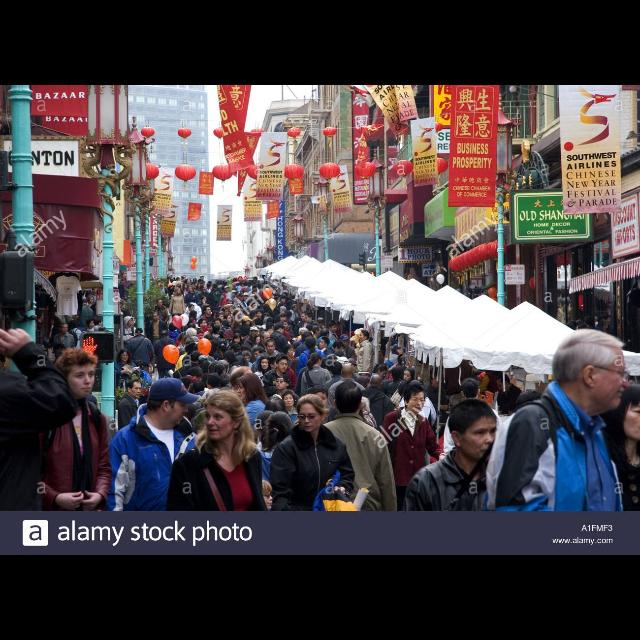head: (553, 329, 631, 415), (448, 399, 500, 463), (146, 379, 190, 431), (204, 391, 246, 443), (62, 351, 96, 399), (296, 394, 328, 434), (1, 311, 22, 364), (332, 382, 363, 414), (236, 373, 262, 401), (269, 412, 293, 442), (255, 411, 279, 439), (231, 368, 255, 396), (404, 384, 426, 414), (308, 386, 328, 414), (255, 481, 273, 512), (460, 378, 482, 400), (270, 295, 284, 329), (267, 397, 285, 419), (127, 380, 143, 398), (496, 374, 510, 394), (206, 374, 222, 390), (282, 392, 296, 410), (276, 355, 290, 373), (404, 368, 418, 384), (341, 364, 355, 380), (276, 376, 290, 392), (192, 380, 205, 396), (429, 373, 443, 387), (460, 357, 474, 371), (370, 376, 384, 390), (332, 340, 346, 354), (410, 381, 422, 395), (392, 367, 404, 381), (310, 354, 322, 368), (269, 357, 281, 371), (179, 378, 191, 392), (224, 352, 236, 364), (252, 348, 264, 360), (260, 332, 272, 344), (274, 323, 286, 335), (332, 362, 342, 376), (328, 354, 338, 368), (309, 354, 319, 368), (260, 357, 270, 371), (266, 340, 276, 354), (120, 349, 130, 363), (378, 366, 388, 378), (360, 330, 370, 342), (340, 335, 350, 347), (320, 337, 330, 349), (192, 354, 204, 364), (59, 322, 69, 333), (488, 361, 499, 371), (302, 332, 312, 343), (300, 328, 310, 339), (284, 347, 294, 358), (219, 347, 229, 358), (389, 339, 398, 351), (50, 316, 60, 326), (392, 345, 402, 355), (306, 338, 316, 348), (320, 329, 330, 339), (300, 312, 310, 322), (232, 345, 242, 355), (134, 328, 144, 338), (198, 319, 208, 329), (249, 328, 259, 338), (124, 318, 134, 328), (329, 322, 338, 332), (160, 332, 170, 341), (94, 318, 102, 328), (87, 320, 95, 330), (306, 314, 314, 324), (242, 354, 250, 364), (234, 334, 242, 344), (207, 323, 215, 333), (215, 319, 223, 329), (242, 317, 250, 327), (254, 336, 262, 346), (266, 322, 274, 332), (283, 320, 291, 330), (280, 313, 288, 323), (204, 306, 212, 316), (152, 312, 160, 322), (37, 312, 44, 322), (399, 356, 406, 366), (170, 322, 177, 332), (80, 298, 88, 306), (185, 346, 193, 354), (136, 361, 144, 369), (222, 308, 230, 316), (227, 306, 235, 314), (156, 300, 164, 308), (200, 284, 208, 292), (318, 318, 324, 328), (409, 267, 416, 275), (225, 316, 232, 324), (243, 293, 250, 301), (89, 296, 95, 304), (408, 352, 416, 358), (264, 305, 270, 313), (188, 306, 196, 312), (201, 296, 207, 304), (237, 294, 243, 302), (280, 296, 286, 304), (71, 322, 77, 328), (391, 335, 397, 341), (292, 306, 298, 312), (280, 308, 286, 314), (257, 312, 263, 318), (191, 312, 197, 318), (191, 300, 197, 306), (227, 300, 233, 306), (259, 279, 265, 285), (252, 286, 258, 292), (224, 287, 230, 293), (213, 286, 219, 292), (189, 287, 195, 293), (175, 288, 181, 294), (177, 277, 183, 283), (94, 288, 98, 294), (122, 274, 128, 278), (184, 284, 188, 290), (292, 295, 296, 299), (236, 292, 240, 296), (244, 282, 248, 286), (236, 282, 240, 286), (198, 284, 202, 288), (201, 276, 205, 280), (188, 278, 192, 282), (248, 282, 252, 284), (240, 276, 242, 278), (234, 280, 236, 282)
person: (440, 376, 504, 538), (218, 363, 268, 517), (226, 372, 274, 532), (242, 408, 290, 546), (323, 363, 369, 477), (298, 384, 344, 486), (394, 379, 440, 477), (256, 393, 294, 509), (357, 374, 398, 464), (262, 354, 300, 448), (115, 378, 148, 484), (443, 357, 485, 439), (488, 371, 528, 457), (298, 352, 334, 446), (418, 370, 452, 462), (268, 373, 302, 465), (110, 347, 156, 413), (196, 372, 228, 466), (320, 360, 352, 448), (379, 365, 413, 447), (293, 352, 325, 432), (250, 339, 284, 411), (296, 335, 328, 411), (275, 388, 305, 469), (168, 375, 196, 461), (389, 366, 421, 439), (476, 362, 510, 430), (166, 350, 208, 404), (150, 328, 180, 402), (248, 331, 278, 404), (124, 326, 156, 392), (382, 352, 414, 416), (251, 355, 281, 421), (292, 330, 320, 400), (322, 339, 348, 411), (260, 356, 288, 422), (266, 321, 296, 379), (144, 311, 172, 371), (116, 314, 144, 374), (222, 350, 248, 414), (354, 329, 374, 411), (319, 354, 343, 420), (51, 322, 77, 380), (332, 333, 358, 391), (188, 380, 212, 440), (174, 342, 198, 402), (248, 346, 270, 408), (382, 343, 408, 395), (228, 342, 250, 403), (128, 359, 154, 409), (366, 362, 390, 416), (42, 315, 64, 371), (316, 336, 338, 392), (278, 343, 298, 403), (196, 304, 218, 358), (315, 328, 337, 380), (74, 298, 96, 348), (88, 317, 109, 369), (381, 337, 402, 389), (225, 332, 247, 380), (404, 350, 422, 408), (294, 326, 314, 378), (242, 326, 262, 378), (214, 342, 234, 393), (293, 311, 315, 357), (180, 309, 198, 365), (303, 312, 323, 362), (238, 350, 258, 400), (248, 332, 268, 382), (210, 318, 232, 362), (151, 299, 171, 347), (324, 320, 342, 372), (194, 318, 212, 370), (81, 318, 101, 364), (383, 332, 403, 376), (235, 315, 255, 359), (183, 298, 203, 342), (312, 316, 330, 364), (168, 286, 186, 334), (273, 312, 295, 351), (216, 298, 236, 340), (167, 320, 185, 366), (195, 284, 213, 328), (180, 304, 198, 346), (231, 292, 249, 334), (201, 321, 217, 365), (261, 322, 279, 361), (218, 284, 236, 322), (34, 311, 48, 359), (261, 304, 277, 346), (220, 314, 236, 356), (66, 319, 84, 356), (84, 294, 98, 340), (280, 320, 296, 360), (239, 292, 255, 332), (196, 294, 212, 332), (218, 306, 232, 348), (222, 303, 236, 345), (274, 306, 290, 342), (274, 294, 290, 330), (288, 303, 304, 337), (254, 309, 268, 347), (286, 292, 300, 330), (184, 285, 198, 323), (86, 287, 102, 319), (270, 295, 284, 329), (209, 283, 223, 317), (406, 265, 420, 297), (247, 284, 261, 312), (231, 290, 243, 322), (257, 278, 269, 306), (240, 281, 252, 307), (173, 277, 185, 303), (197, 275, 207, 303), (120, 272, 130, 298), (180, 282, 190, 308), (230, 278, 240, 302), (194, 282, 204, 306), (237, 276, 246, 296), (234, 280, 242, 302), (246, 281, 254, 303), (185, 277, 193, 299)
